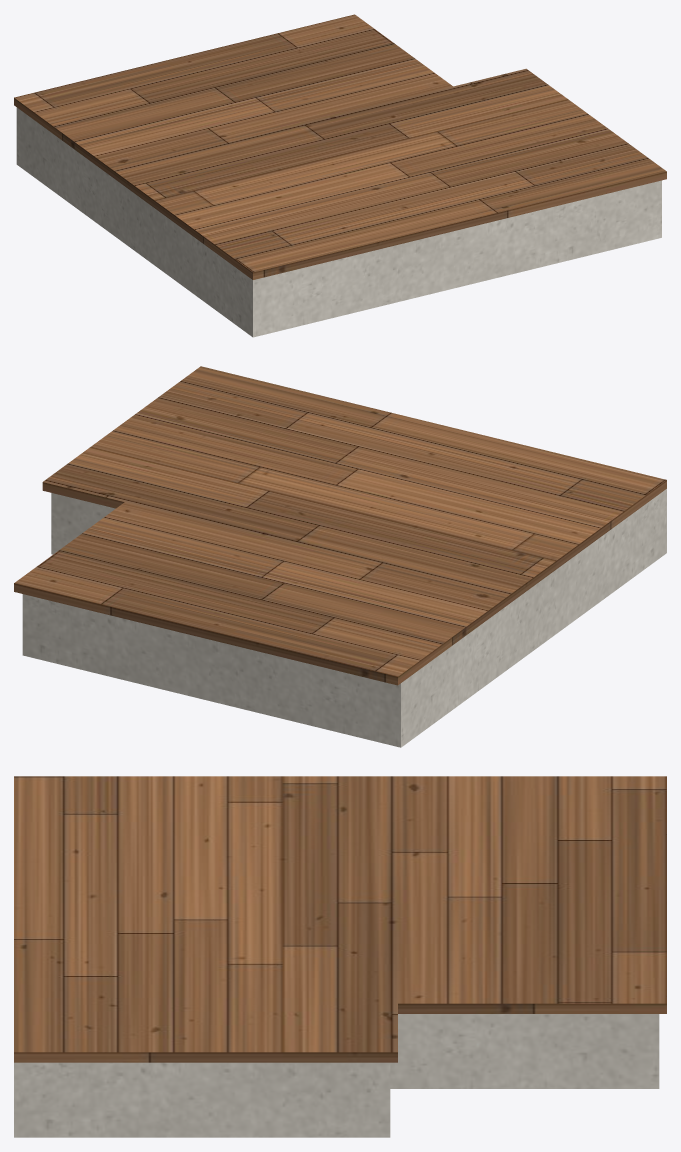
The model's file is floor_floor_u_e1001_h2.glb.
3 renders of one model, top to bottom at view 1: azimuth 30°, elevation 25°; view 2: azimuth 150°, elevation 25°; view 3: azimuth 270°, elevation 25°, orthographic. The views are drawn at different scales.
Visible parts, largest first — view 1: floor_floor_u_e1001_h2_floor, floor_floor_u_e1001_h2_plaster; view 2: floor_floor_u_e1001_h2_floor, floor_floor_u_e1001_h2_plaster; view 3: floor_floor_u_e1001_h2_floor, floor_floor_u_e1001_h2_plaster.
Boxes of the visible parts, <box> form: floor_floor_u_e1001_h2_floor: <box>14,14,666,279</box>; floor_floor_u_e1001_h2_plaster: <box>16,107,661,337</box>; floor_floor_u_e1001_h2_floor: <box>14,366,666,685</box>; floor_floor_u_e1001_h2_plaster: <box>22,489,666,747</box>; floor_floor_u_e1001_h2_floor: <box>14,776,666,1062</box>; floor_floor_u_e1001_h2_plaster: <box>14,1014,659,1137</box>.
Bounding box in the file's own units: 1.7 × 0.255 × 1.7.
Materials: 2 (2 with a texture image).
